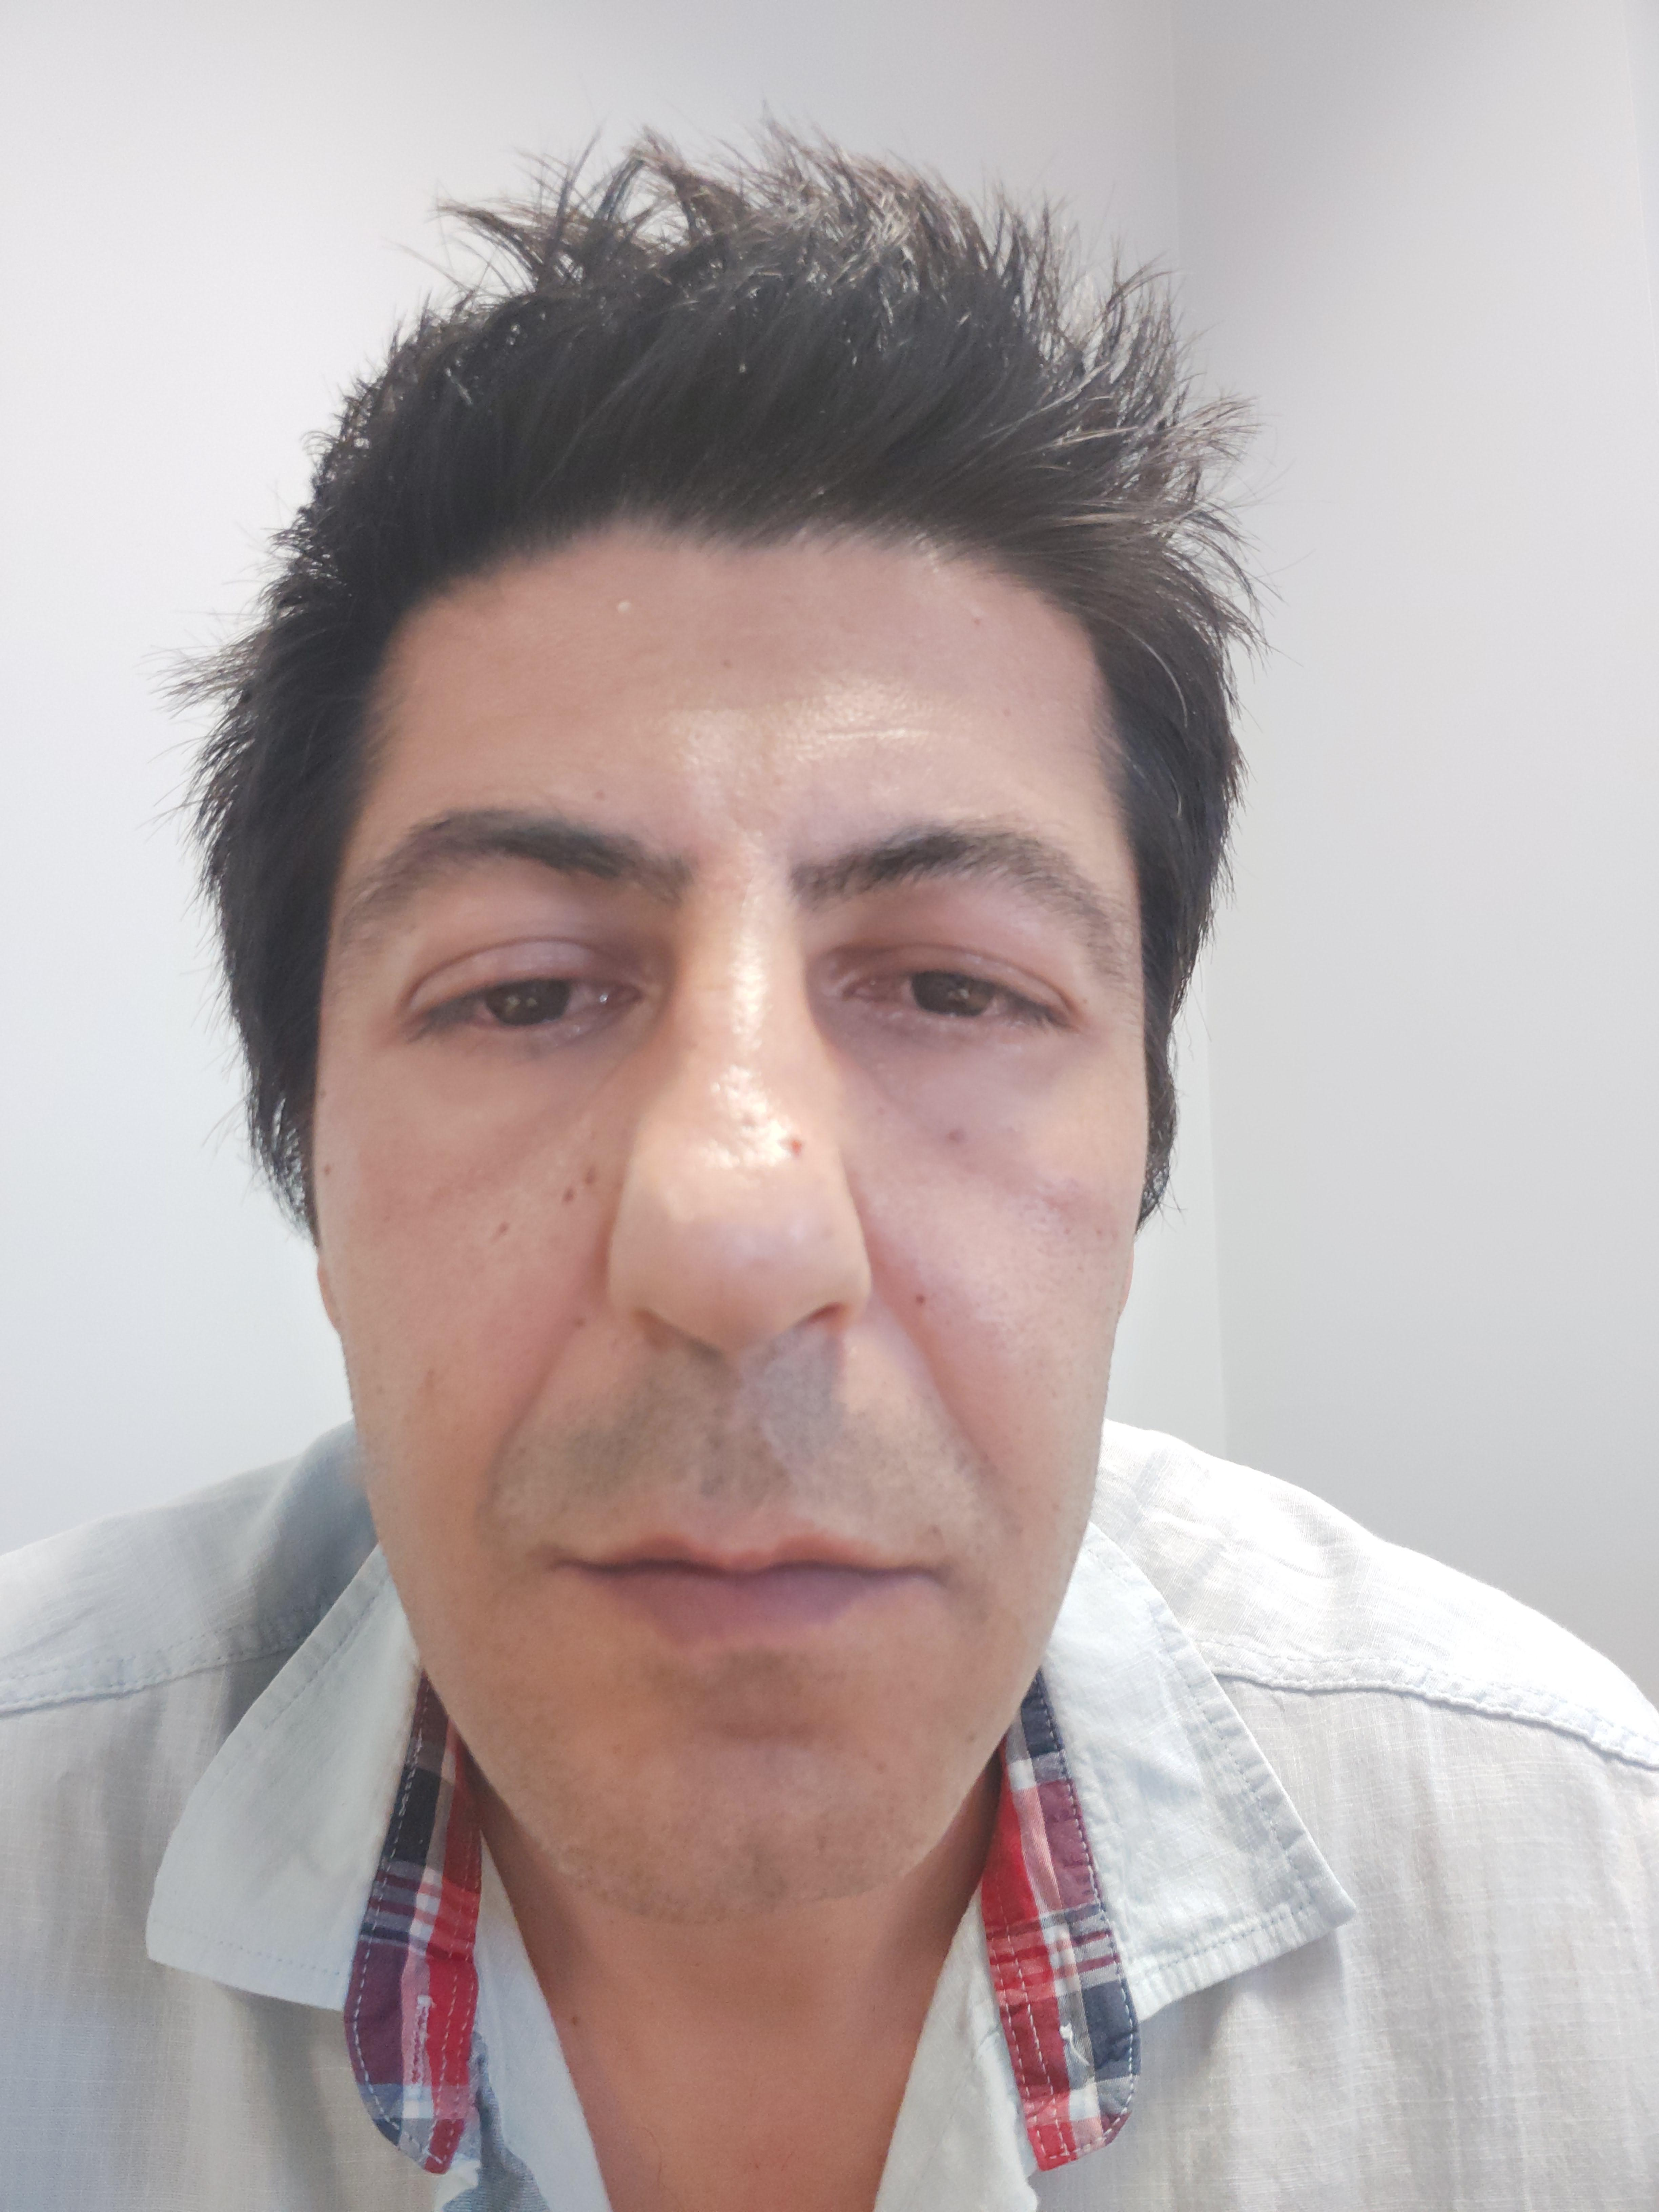Acne: (605, 587, 641, 622), (955, 599, 992, 632)
Englarged-Pores: (702, 967, 789, 1181), (1002, 1181, 1119, 1277)
Wrinkles: (870, 1277, 1009, 1498), (472, 1303, 596, 1543), (641, 685, 838, 711), (802, 716, 957, 745)
